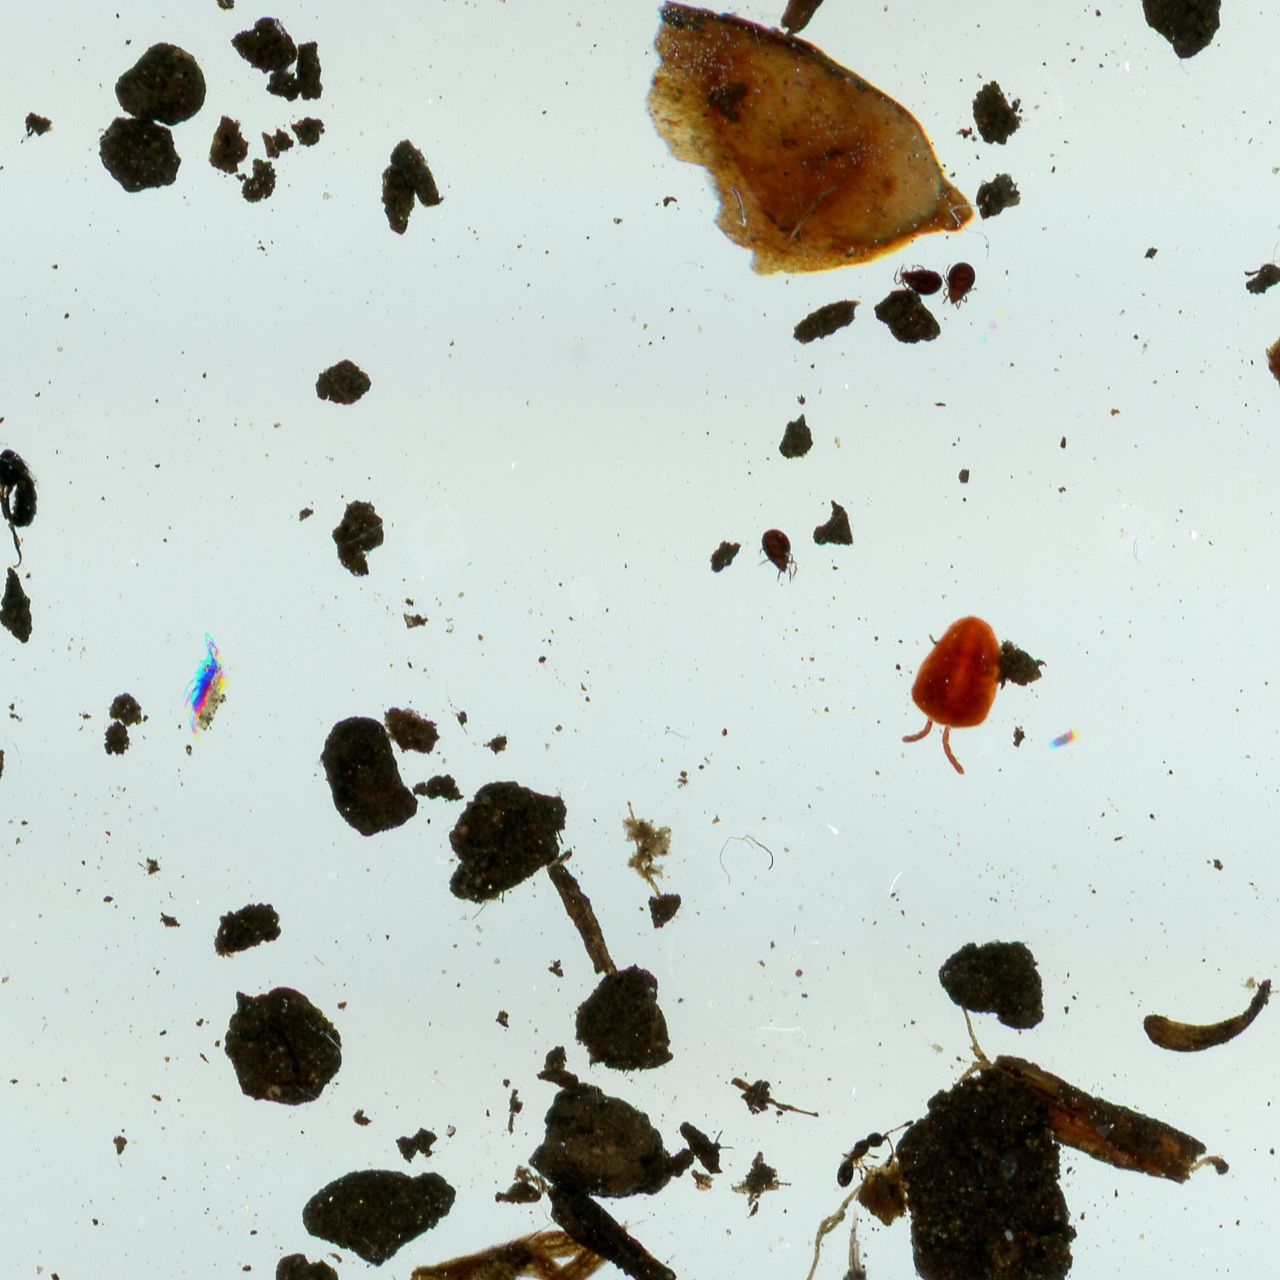arthropod: (892, 612, 1010, 780), (411, 1201, 577, 1280), (796, 1203, 892, 1280), (831, 1115, 920, 1191), (0, 437, 43, 572), (928, 246, 993, 322), (752, 522, 803, 587), (889, 260, 945, 305)
